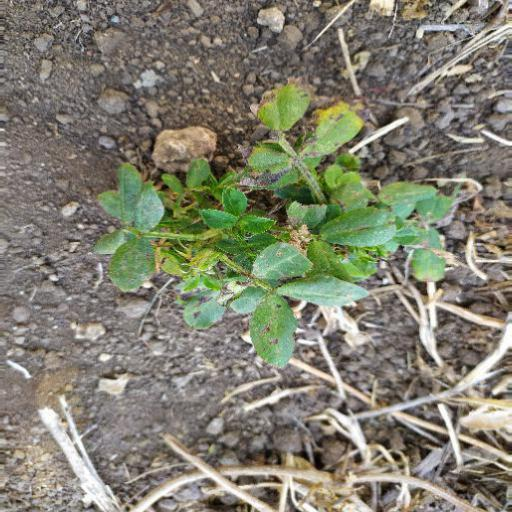weed: (86, 80, 465, 360)
